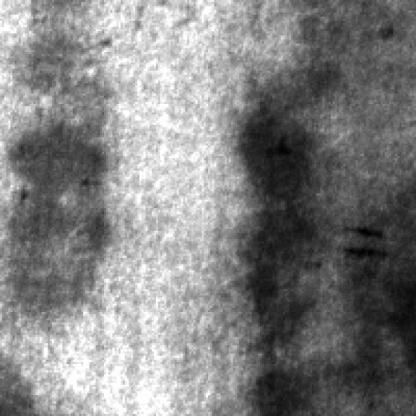patches: (237, 81, 329, 360), (2, 106, 108, 312), (237, 349, 327, 414)
